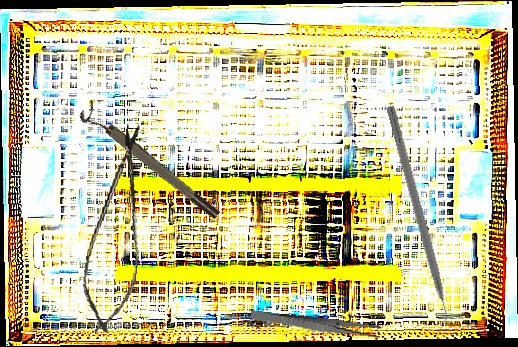Chopper: (373, 103, 456, 339)
Dressing Forceps: (249, 309, 382, 339)
Fixation Ring: (76, 99, 223, 228)
Micro Scissor: (75, 117, 158, 341)
